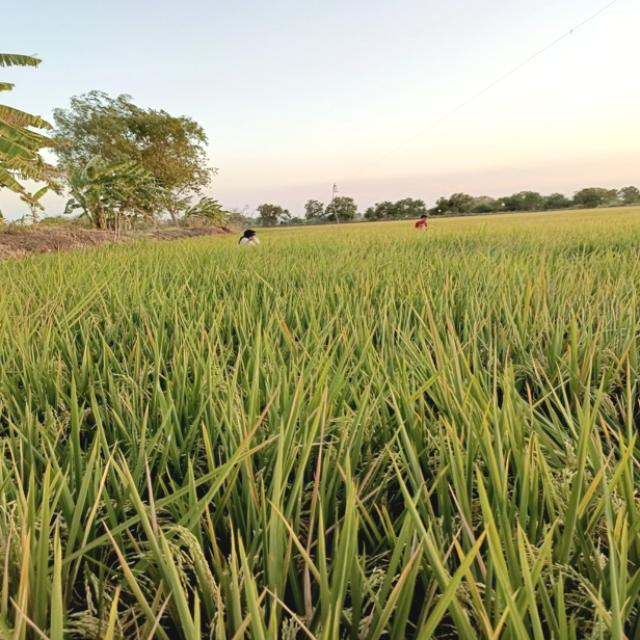Hawar Daun Bakteri: (309, 432, 332, 542)
